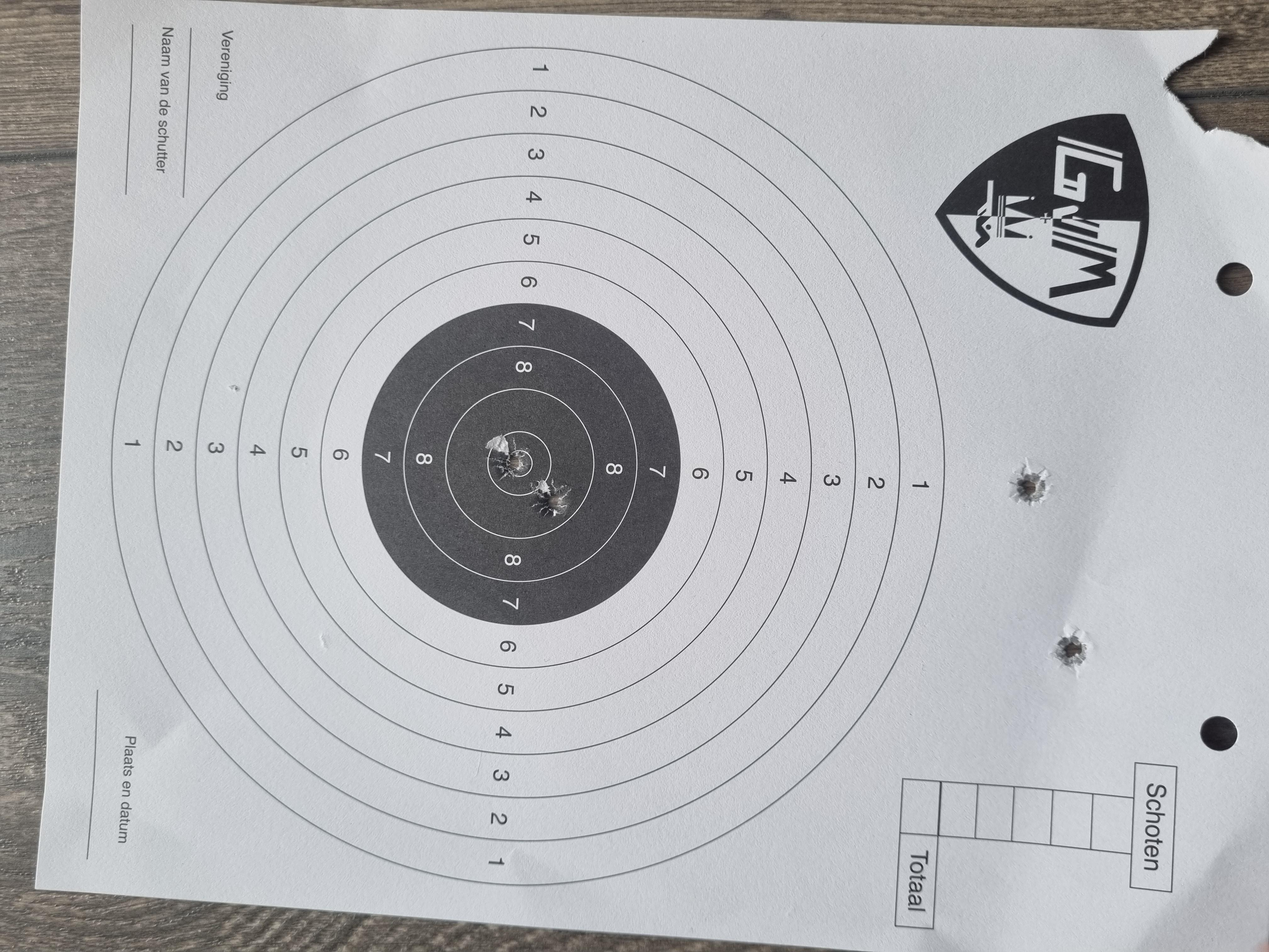hole: (626, 367, 686, 400), (576, 398, 628, 429), (596, 758, 651, 786), (379, 791, 426, 815)
